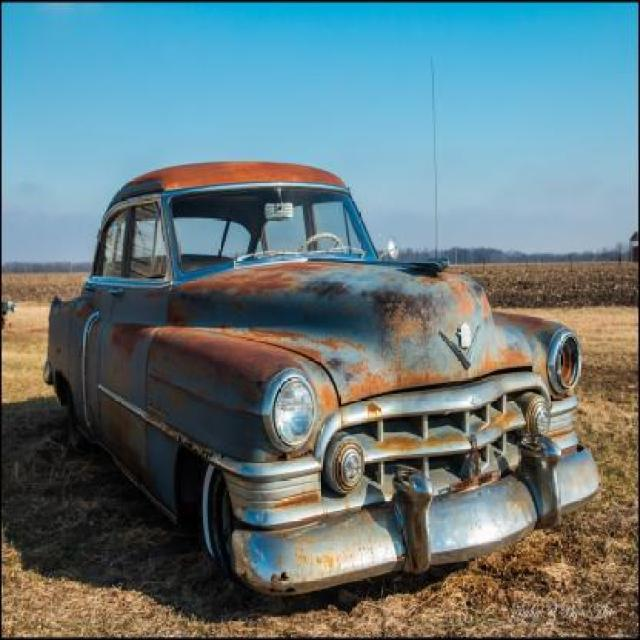corrosion: (49, 158, 600, 613)
